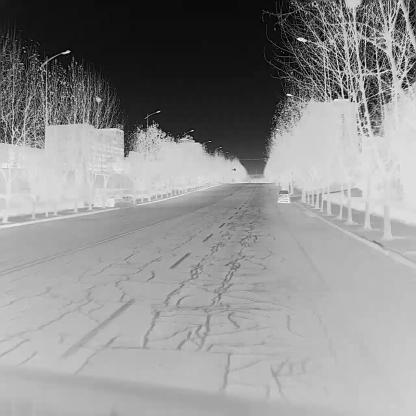car: (276, 189, 290, 203)
